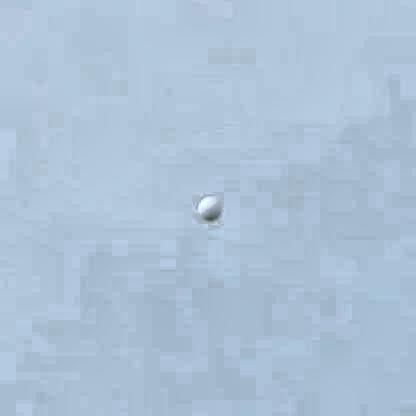golfball: (195, 188, 219, 218)
